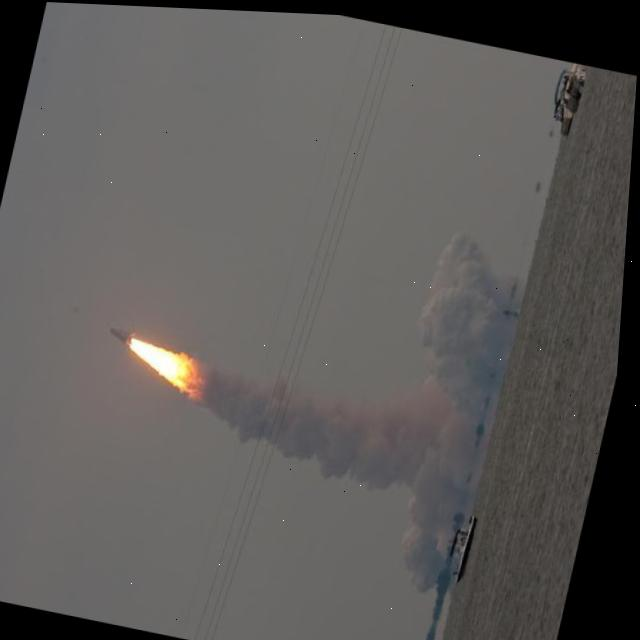missile: (109, 317, 142, 349)
